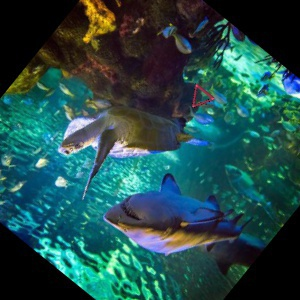triangle: (191, 83, 215, 108)
